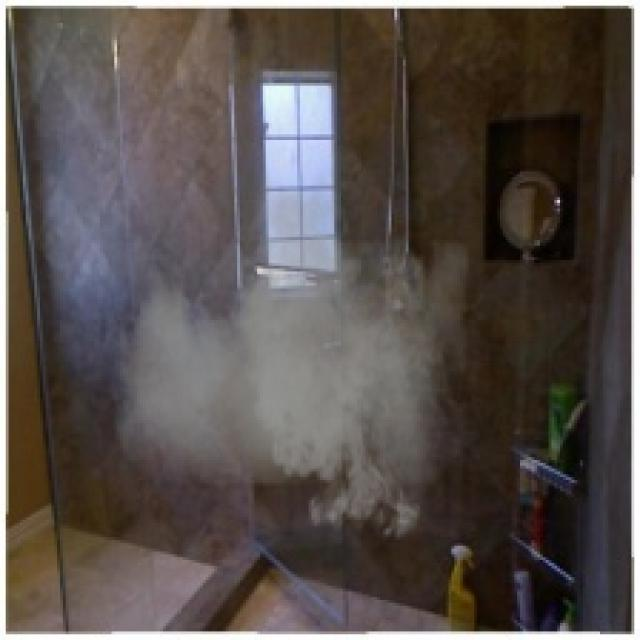smoke: (114, 174, 469, 552)
